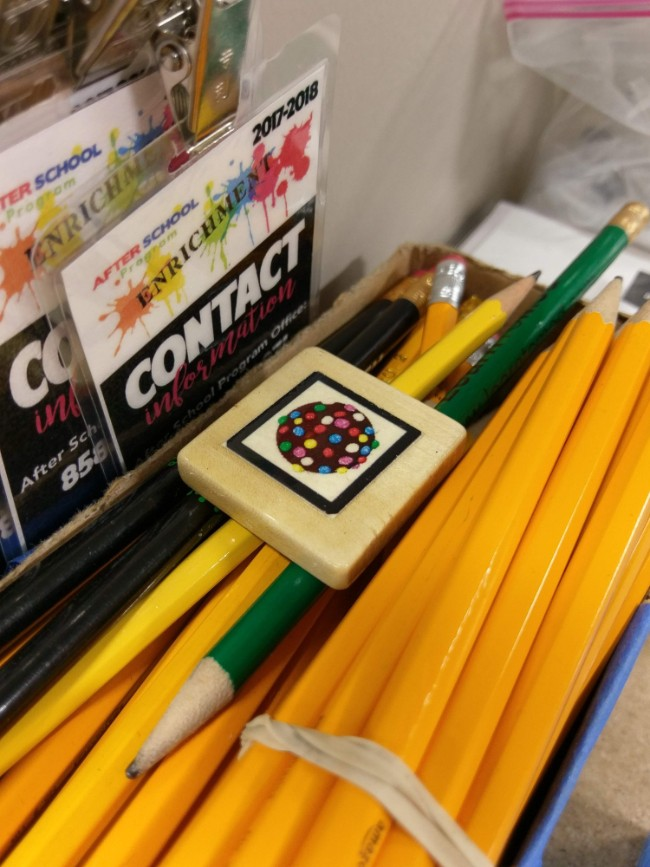cookie: (202, 367, 443, 534)
